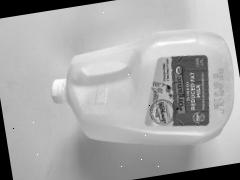plastic: (27, 6, 240, 180)
